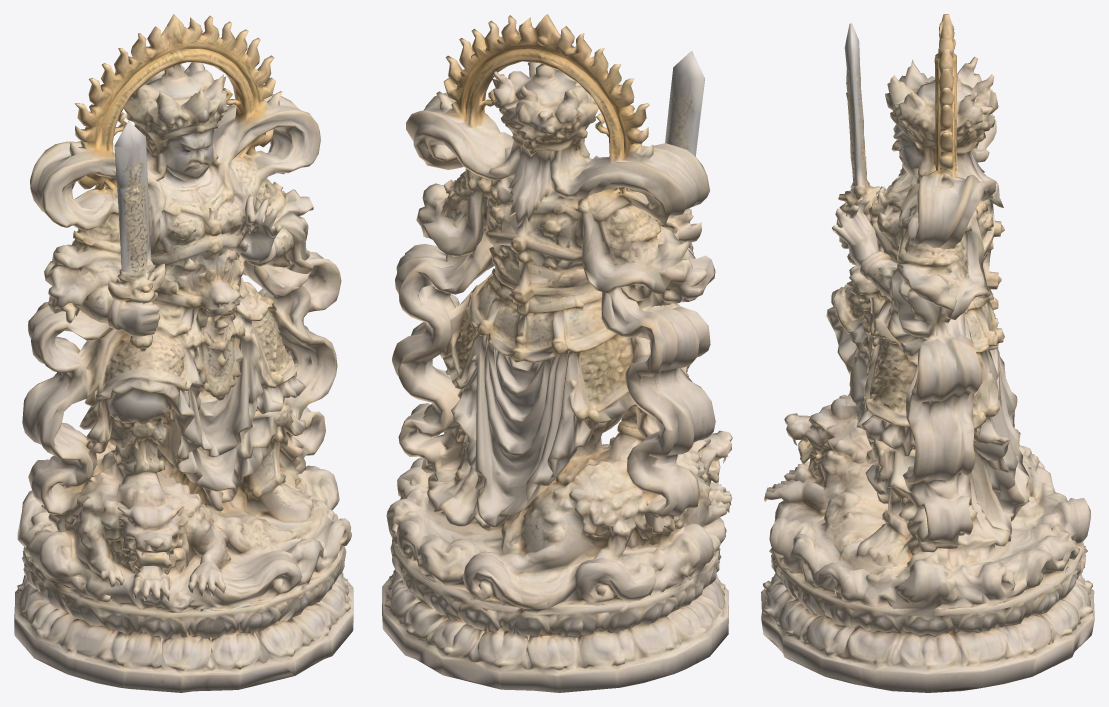
The picture shows the model from 3 angles, left to right: view 1: azimuth 30°, elevation 25°; view 2: azimuth 150°, elevation 25°; view 3: azimuth 270°, elevation 25°; orthographic projection. The views are drawn at different scales.
Visible parts, largest first — view 1: four-heavenly-kings-02; view 2: four-heavenly-kings-02; view 3: four-heavenly-kings-02.
Part boxes in pixels (x1=…): four-heavenly-kings-02: x1=14, y1=14, x2=353, y2=692; four-heavenly-kings-02: x1=382, y1=14, x2=732, y2=692; four-heavenly-kings-02: x1=761, y1=14, x2=1094, y2=692.
Size of the model in its own units: 0.5276 by 0.9994 by 0.5034.
Materials: 1 (1 with a texture image).
